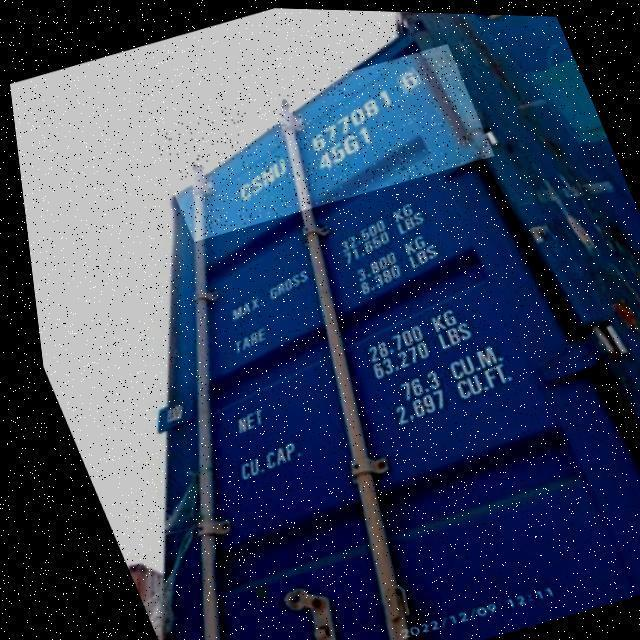container_number_h: (134, 34, 500, 248)
